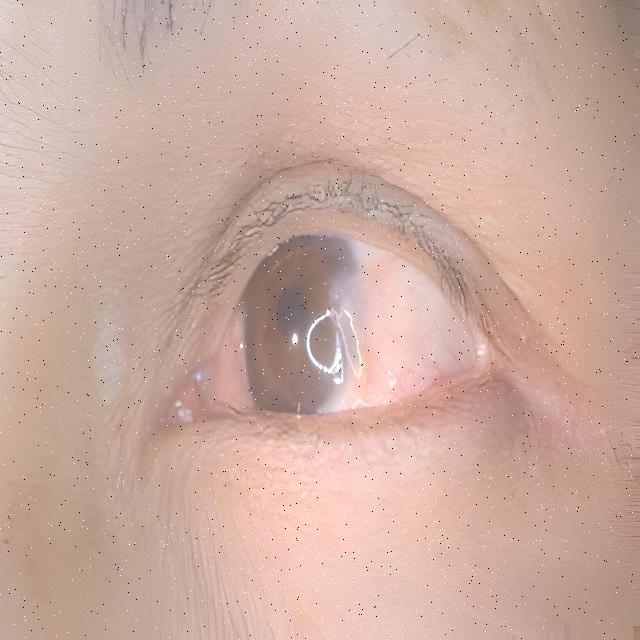Pterygium: (320, 250, 476, 412), (193, 306, 263, 406)
